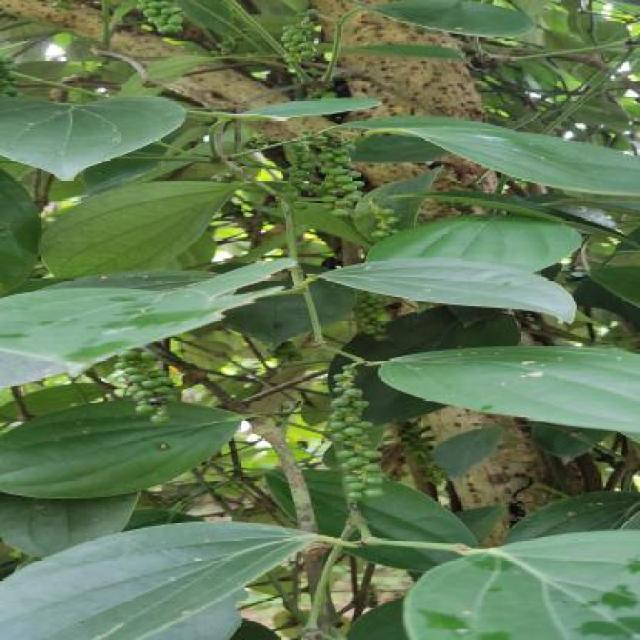UNRIPE: (283, 132, 366, 214), (331, 365, 382, 497), (120, 349, 172, 423), (391, 419, 443, 485), (280, 25, 323, 66), (354, 295, 395, 337), (140, 3, 185, 32), (368, 212, 402, 237)
